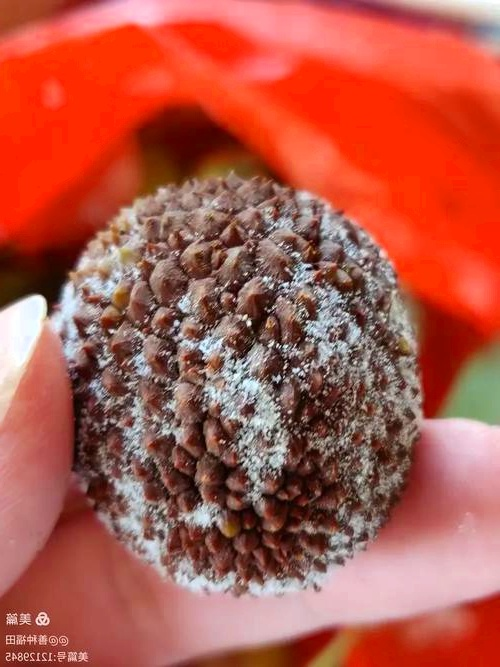Frost_Blight: (51, 196, 426, 564)
